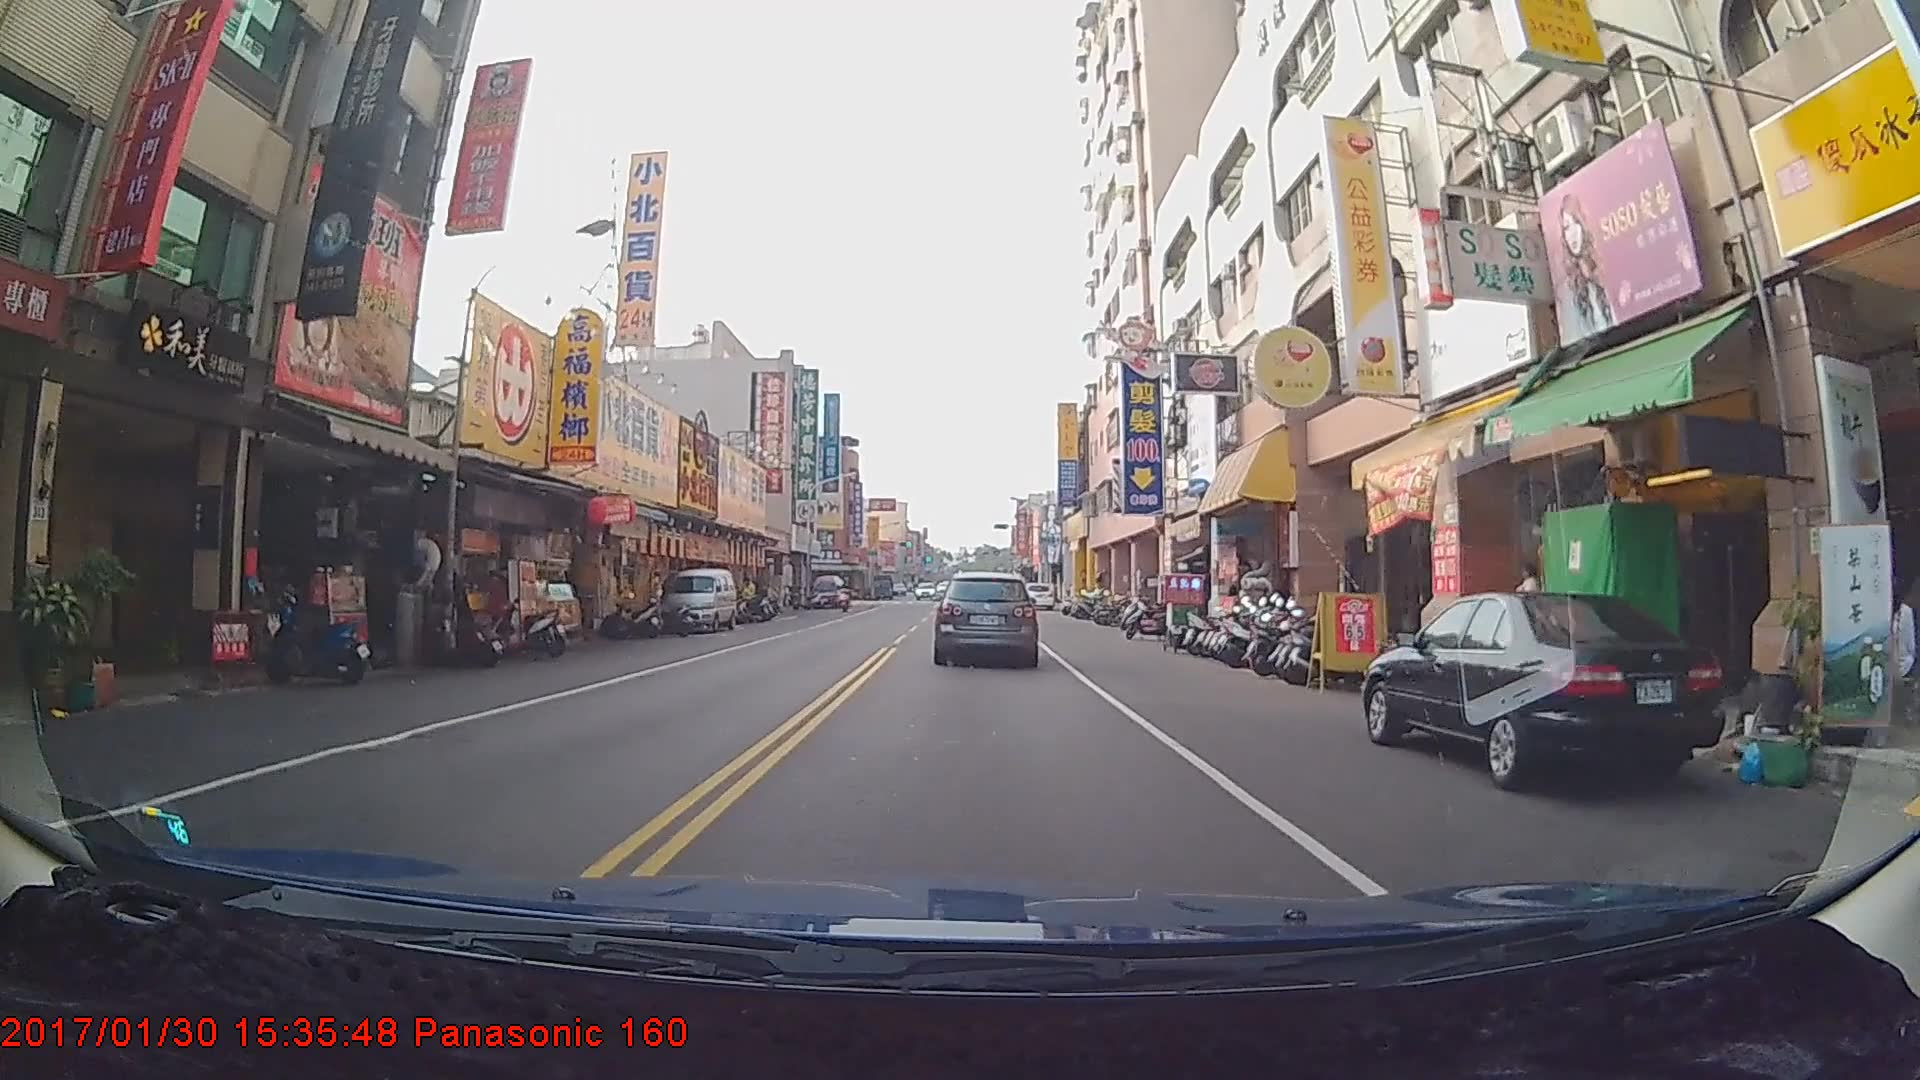vehicle: (1365, 588, 1724, 793), (935, 572, 1036, 666), (659, 564, 736, 632), (810, 574, 844, 607), (1022, 582, 1054, 611)
